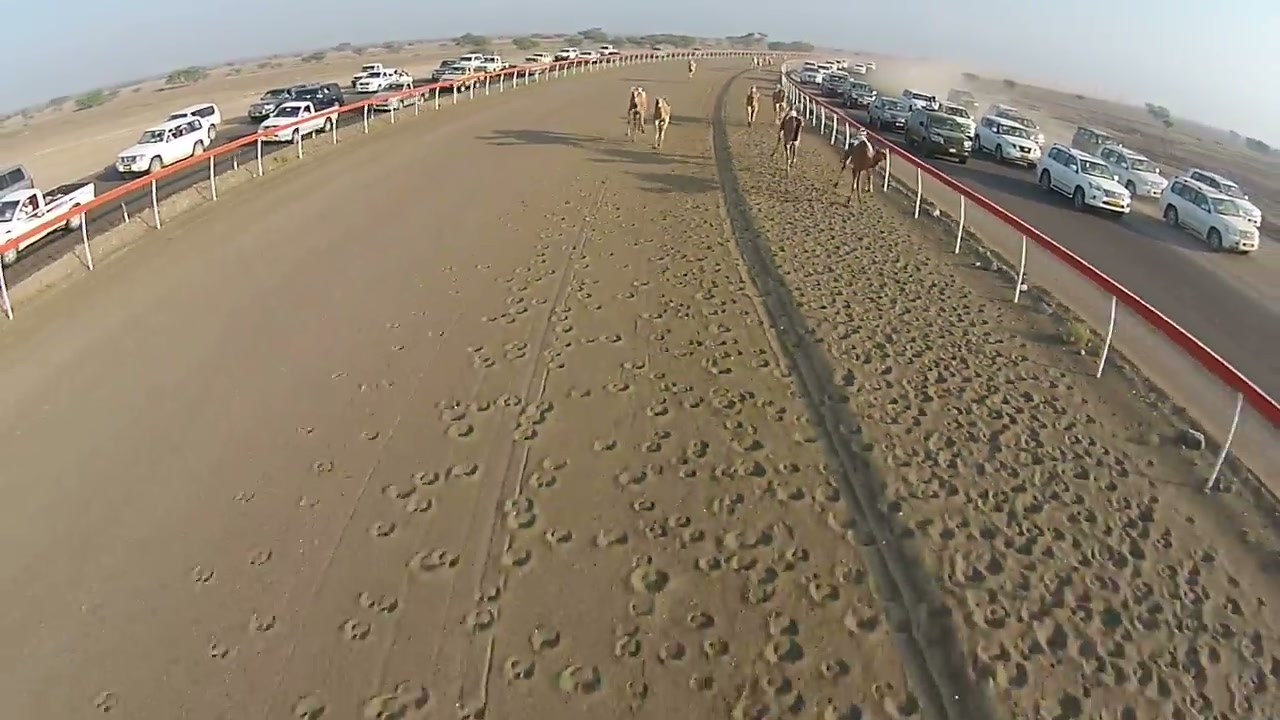animal_foot_print: (724, 137, 1279, 717), (476, 189, 906, 716)
